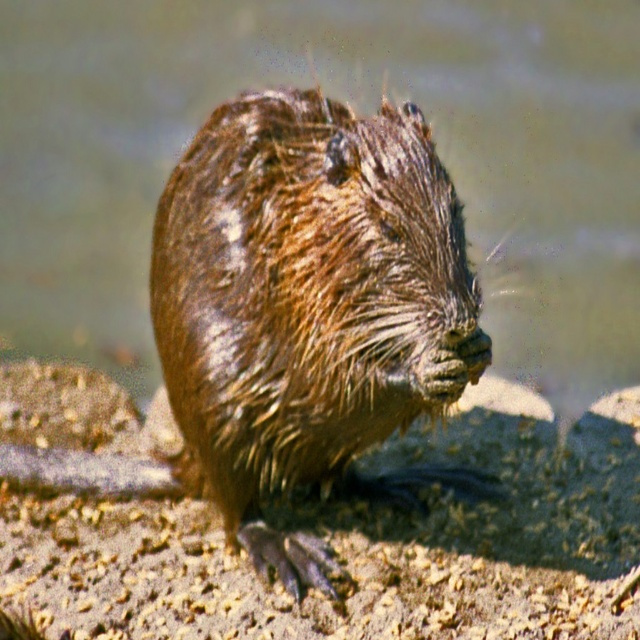Otter: (0, 44, 522, 611)
